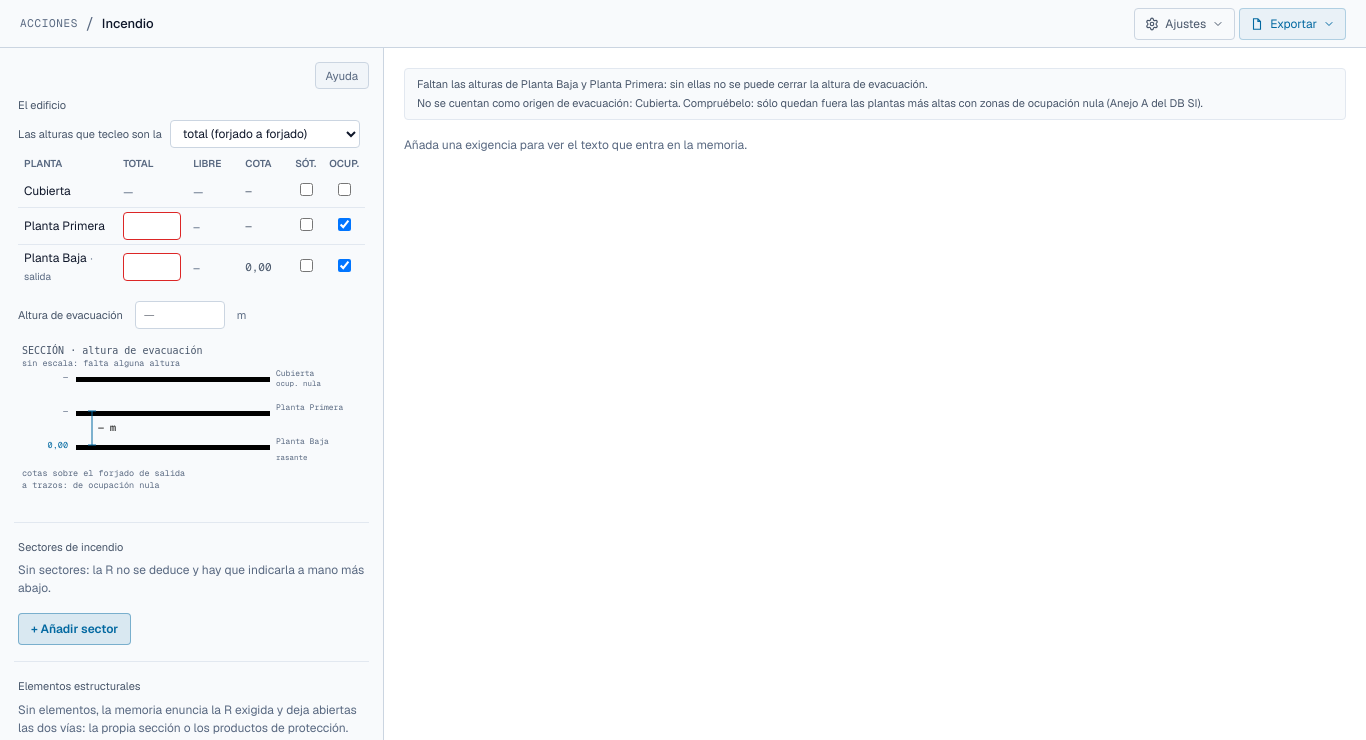
con las plantas de Cargas por planta › en modo libre, el canto que se teclea en una fila es el del forjado de ENCIMA, y ahí se guarda
Select "libre (bajo el forjado)" in the dropdown named "Qué altura se teclea en cada planta" at (265, 134), box 170,120 -> 360,148
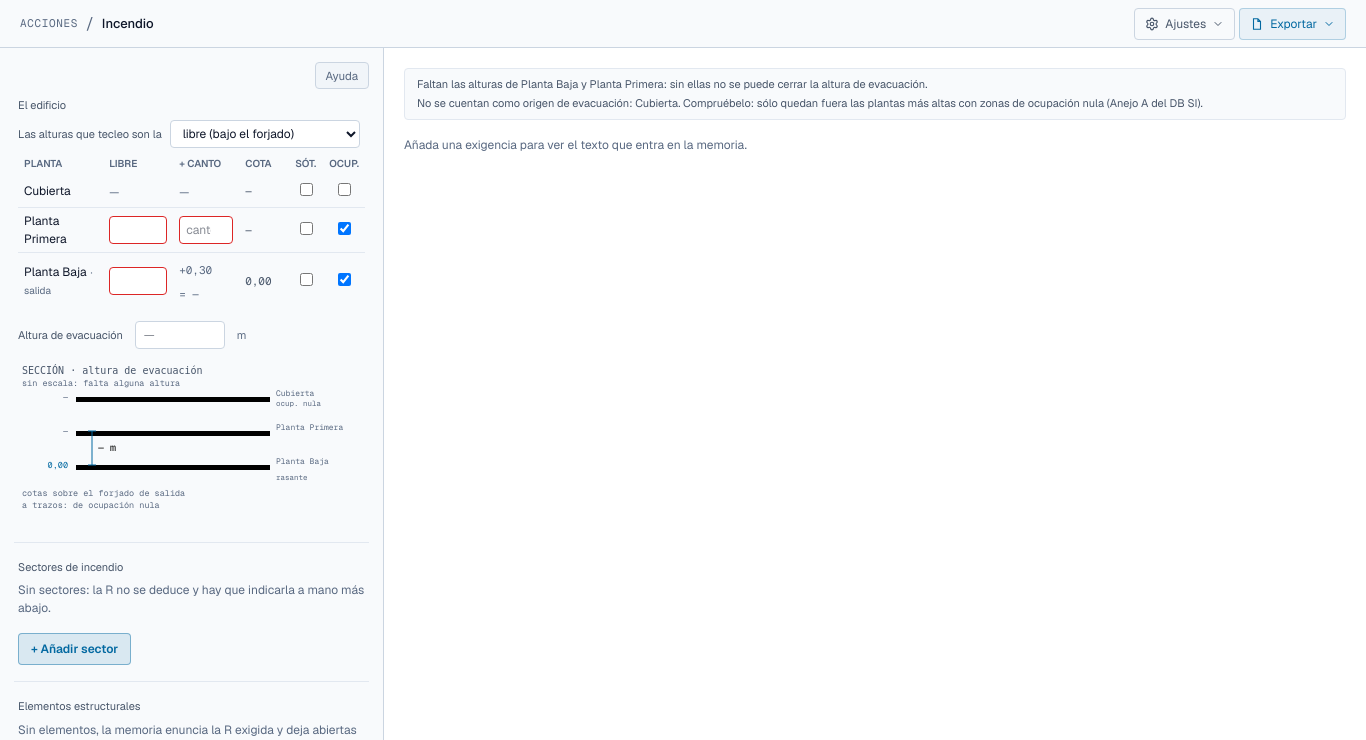
Type "2.9" into the number field named "Altura de Planta Baja" at (138, 281), box 109,267 -> 167,295
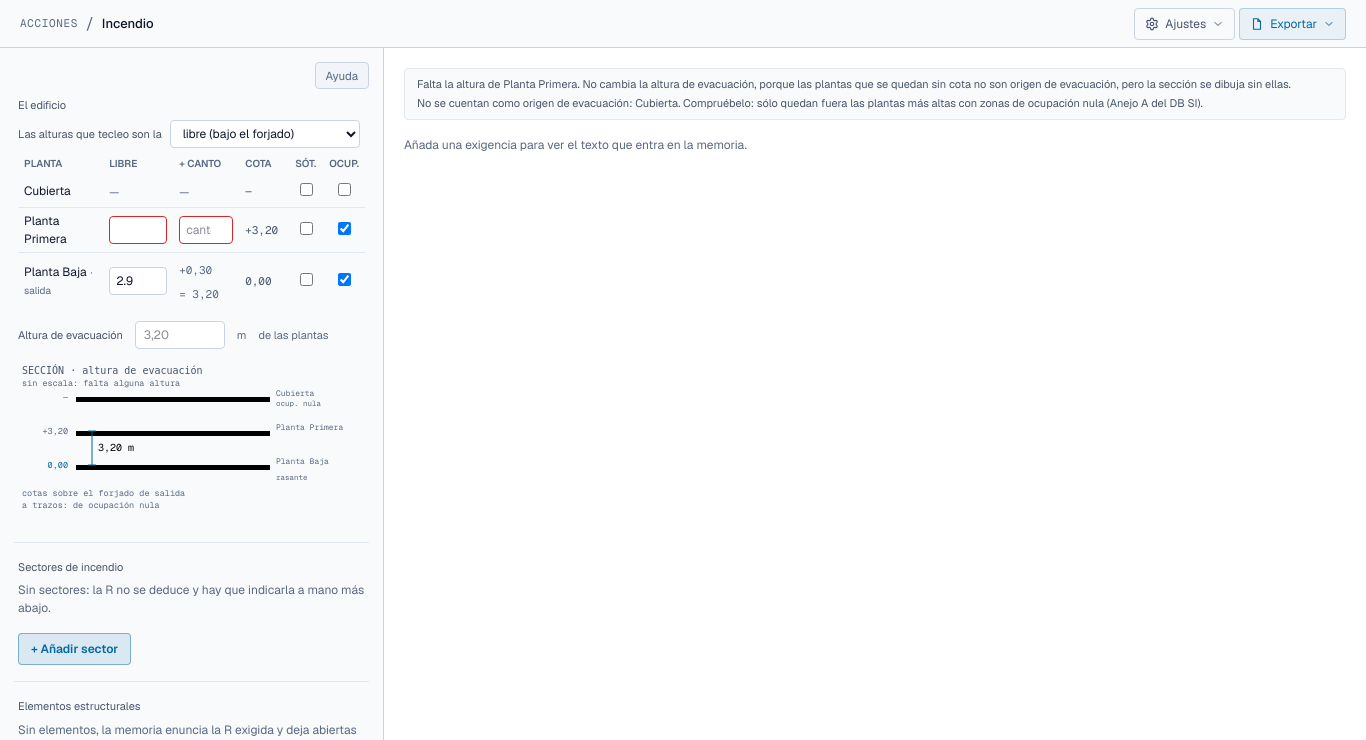
Type "2.7" into the number field named "Altura de Planta Primera" at (138, 230), box 109,216 -> 167,244
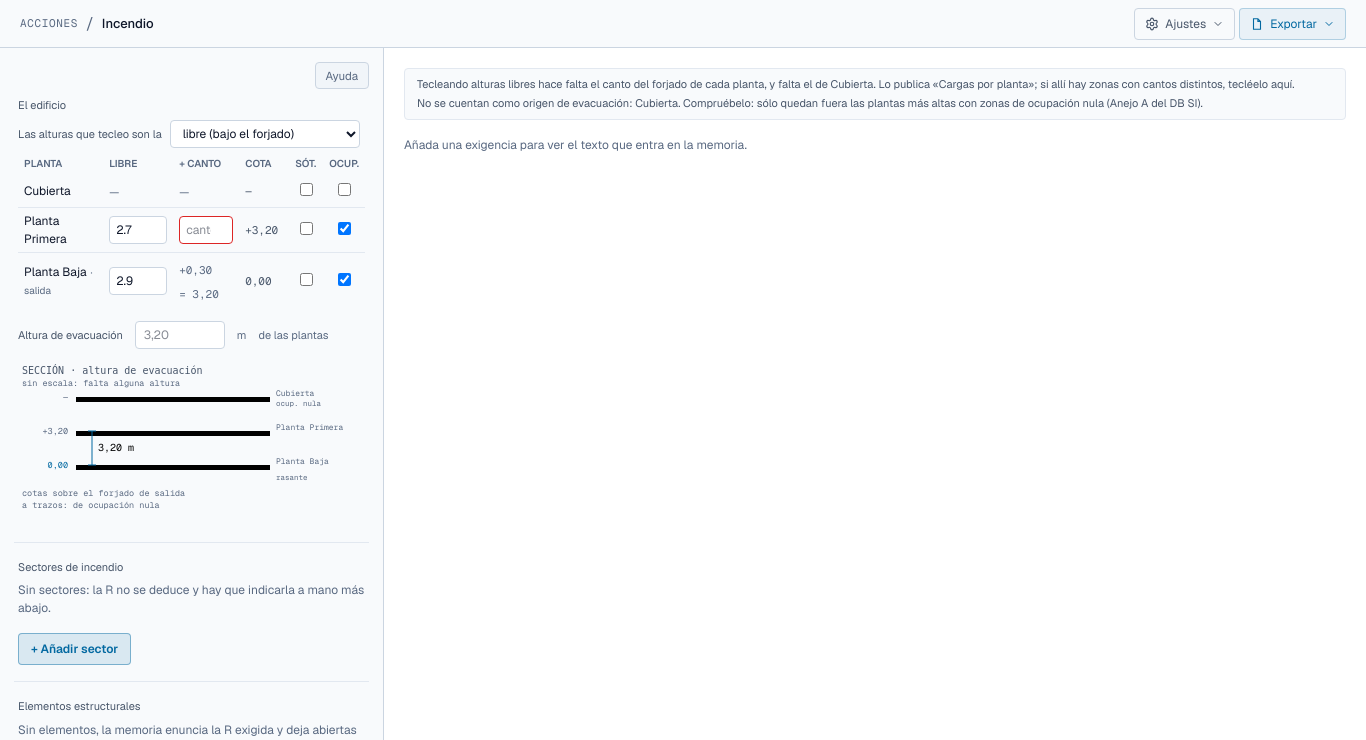
Type "0.35" into the number field named "Canto del forjado sobre Planta Primera" at (206, 230), box 179,216 -> 233,244
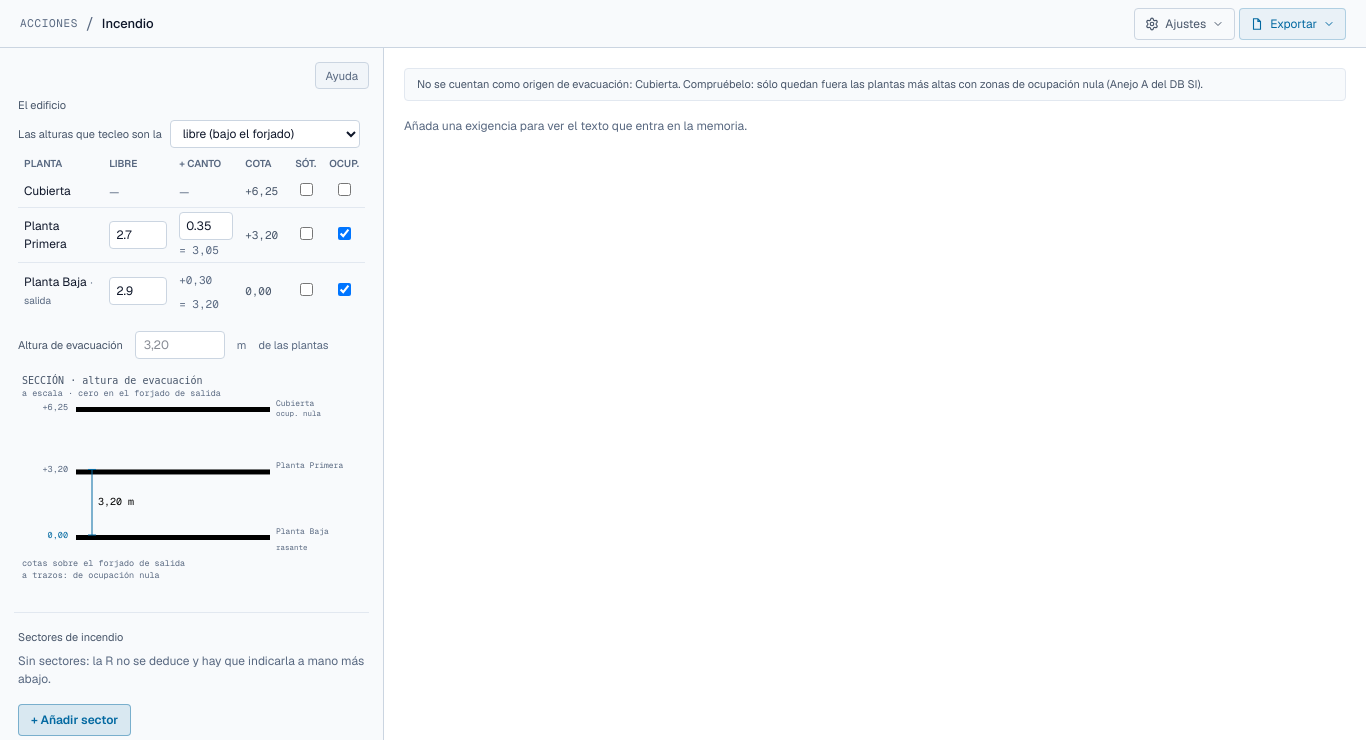
Now the text "+6,25" is shown, box 239,175 -> 289,207
